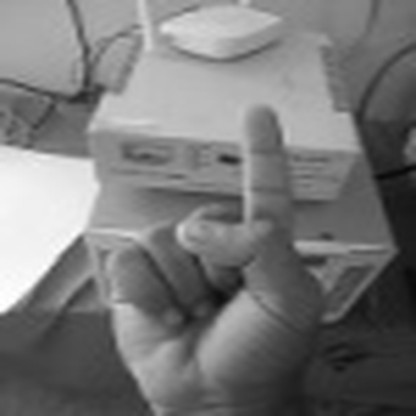d: (100, 101, 306, 416)
